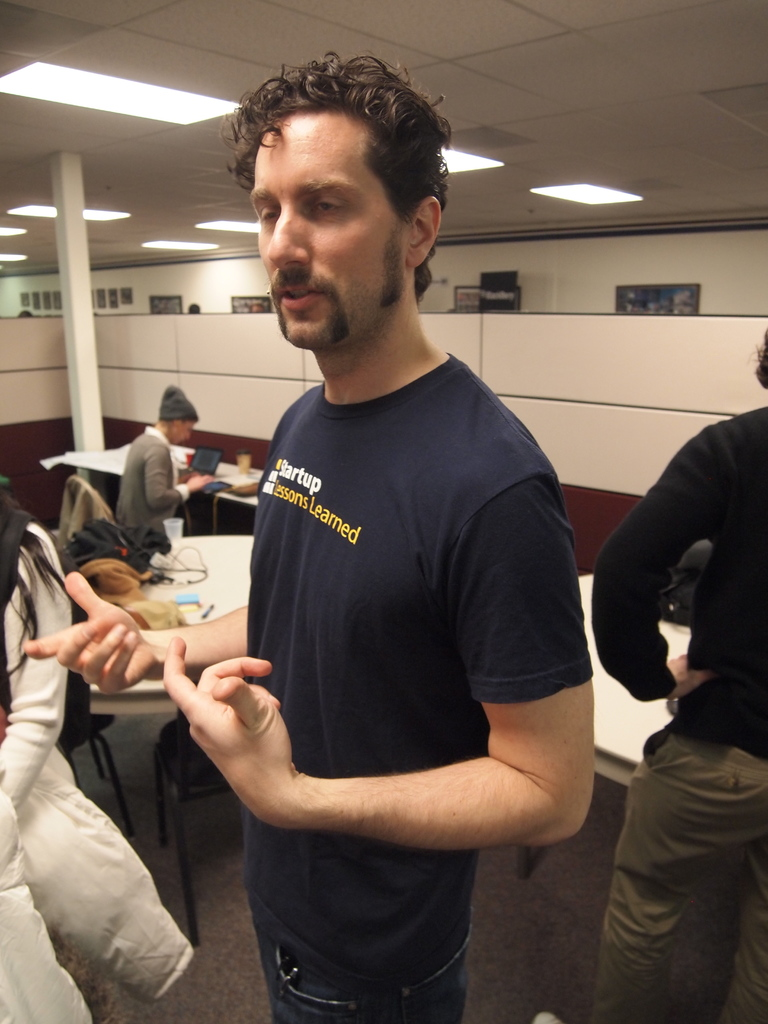Human_hand: (140, 628, 306, 810), (20, 570, 162, 696), (668, 648, 715, 703), (186, 474, 216, 491)
